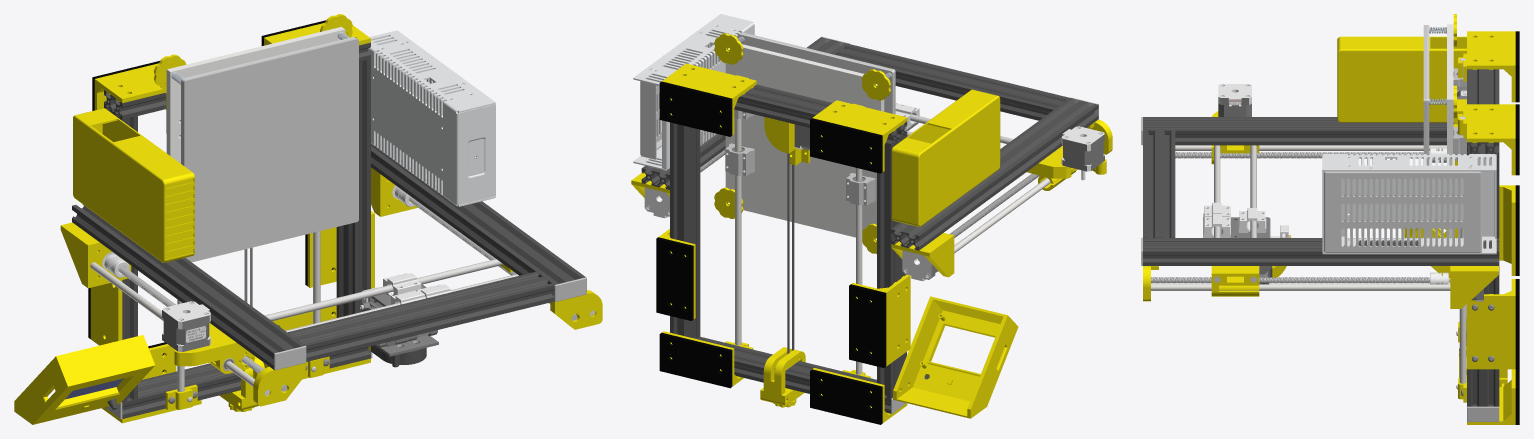
Rendered from Anet AM8 Pro.glb.
The picture shows the model from 3 angles, left to right: view 1: azimuth 30°, elevation 25°; view 2: azimuth 150°, elevation 25°; view 3: azimuth 270°, elevation 25°; orthographic projection. The views are drawn at different scales.
Parts seen in each view (by area): view 1: root; view 2: root; view 3: root.
Boxes of the visible parts, bbox=[...] form: root: bbox=[14, 14, 602, 424]; root: bbox=[631, 14, 1112, 424]; root: bbox=[1141, 14, 1519, 424].
Bounding box in the file's own units: 2 × 1.9 × 1.92.
